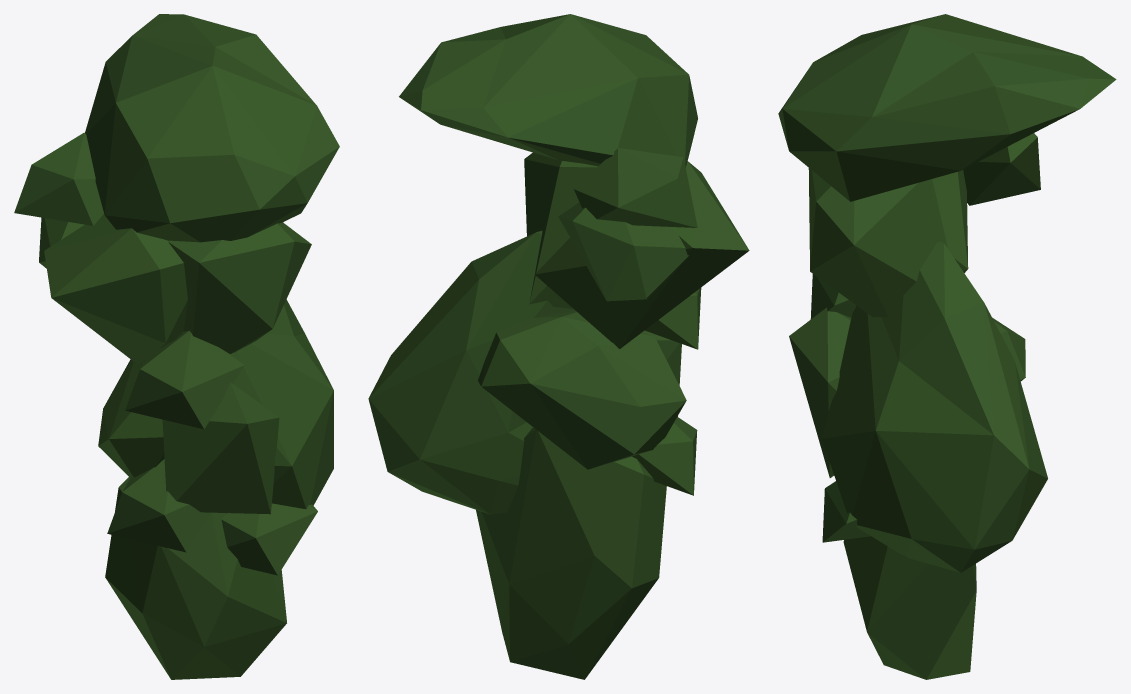
The model's file is SM_bushes_hanging_02.fbx.
3 renders of one model, left to right at view 1: azimuth 30°, elevation 25°; view 2: azimuth 150°, elevation 25°; view 3: azimuth 270°, elevation 25°, orthographic. The views are drawn at different scales.
Visible parts, largest first — view 1: Object142; view 2: Object142; view 3: Object142.
Part boxes in pixels (x1,y1,x2,y2): Object142: (14, 14, 339, 679); Object142: (368, 14, 749, 679); Object142: (778, 14, 1116, 679).
Bounding box in the file's own units: 144 × 275 × 130.
